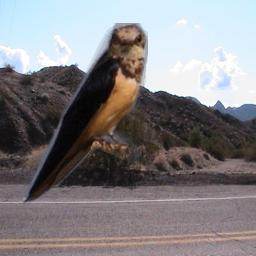Swallow: (23, 23, 148, 208)
